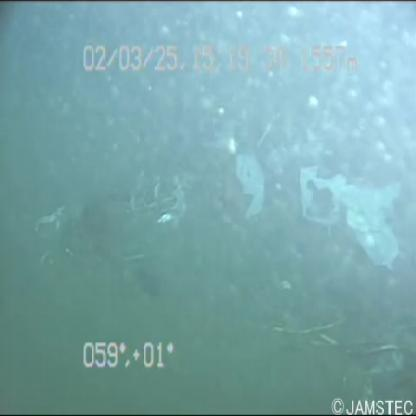Rác: (296, 151, 406, 280), (221, 136, 281, 235)
